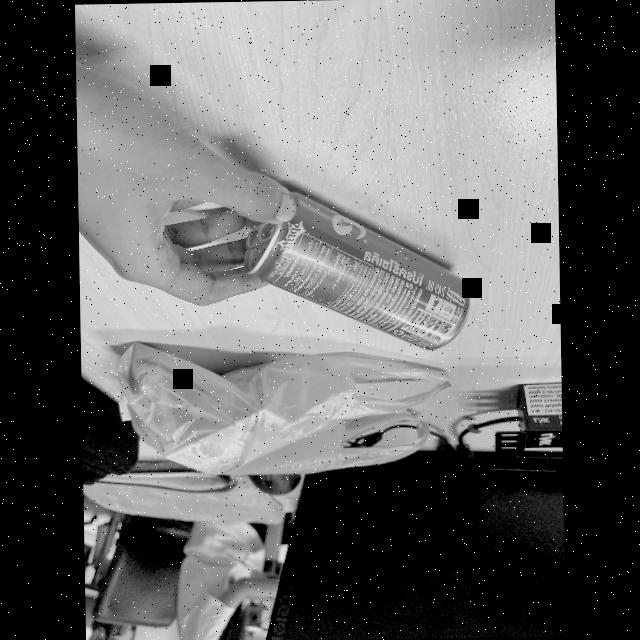can: (234, 177, 486, 360)
